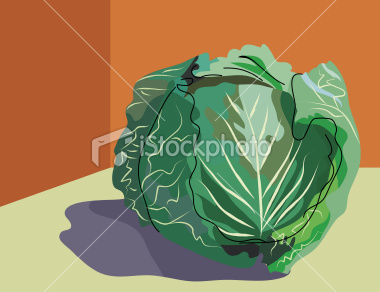cabbage: (111, 41, 363, 277)
